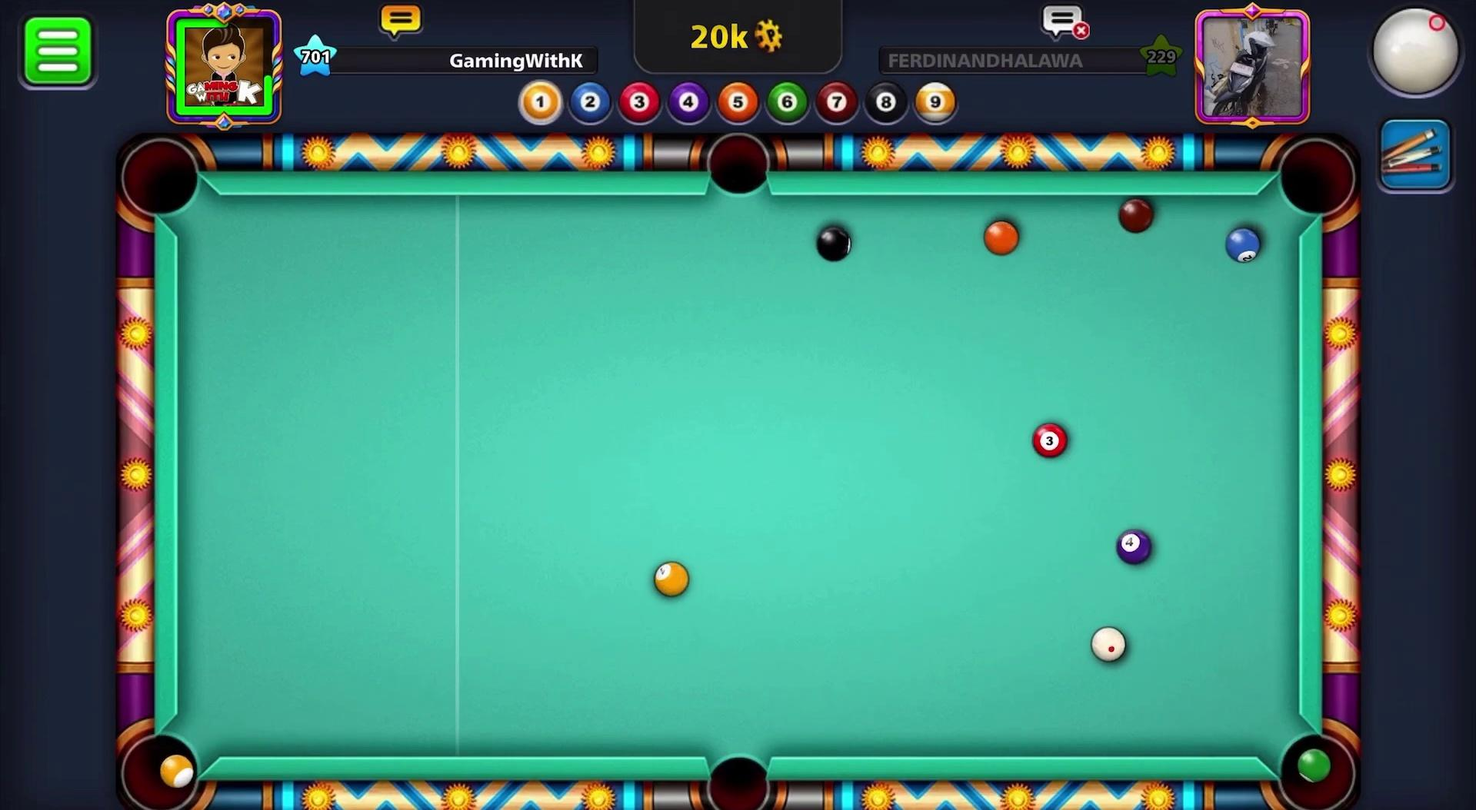Ball: (154, 745, 204, 800), (647, 558, 693, 604), (1113, 520, 1155, 569), (979, 216, 1023, 261), (811, 220, 857, 263), (1029, 417, 1071, 461), (1223, 224, 1261, 268), (1114, 194, 1155, 234), (1299, 747, 1330, 785)
Hole: (107, 128, 214, 231), (1267, 131, 1364, 232), (109, 717, 212, 809), (1270, 712, 1362, 809), (692, 124, 787, 209), (689, 735, 783, 809)
Play_Area: (176, 193, 1302, 759)
Spin: (1341, 0, 1474, 115)
White: (1085, 619, 1133, 669)
